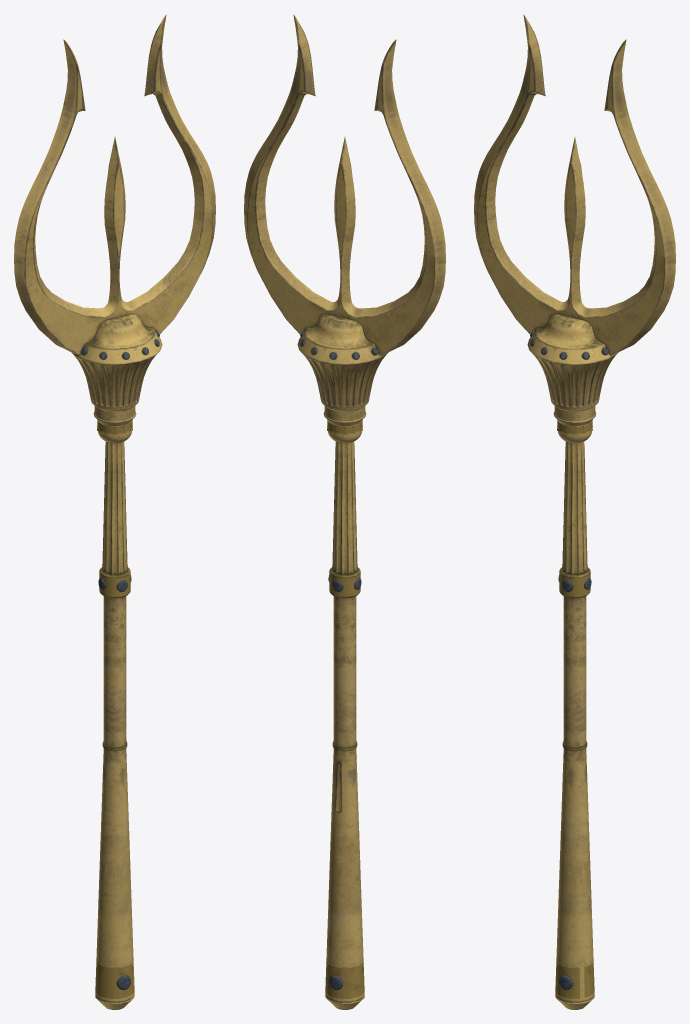
Rendered from SM_PropTrident.fbx.
The picture shows the model from 3 angles, left to right: view 1: azimuth 30°, elevation 25°; view 2: azimuth 150°, elevation 25°; view 3: azimuth 330°, elevation 25°; orthographic projection.
Visible parts, largest first — view 1: KB3D_ATL_PropTrident_A_Main; view 2: KB3D_ATL_PropTrident_A_Main; view 3: KB3D_ATL_PropTrident_A_Main.
Boxes of the visible parts, left/top/right/bottom form: KB3D_ATL_PropTrident_A_Main: left=14, top=14, right=215, bottom=1009; KB3D_ATL_PropTrident_A_Main: left=244, top=14, right=445, bottom=1009; KB3D_ATL_PropTrident_A_Main: left=474, top=14, right=675, bottom=1009.
Size of the model in its own units: 305 by 1412 by 124.
Materials: 1 (1 with a texture image).
